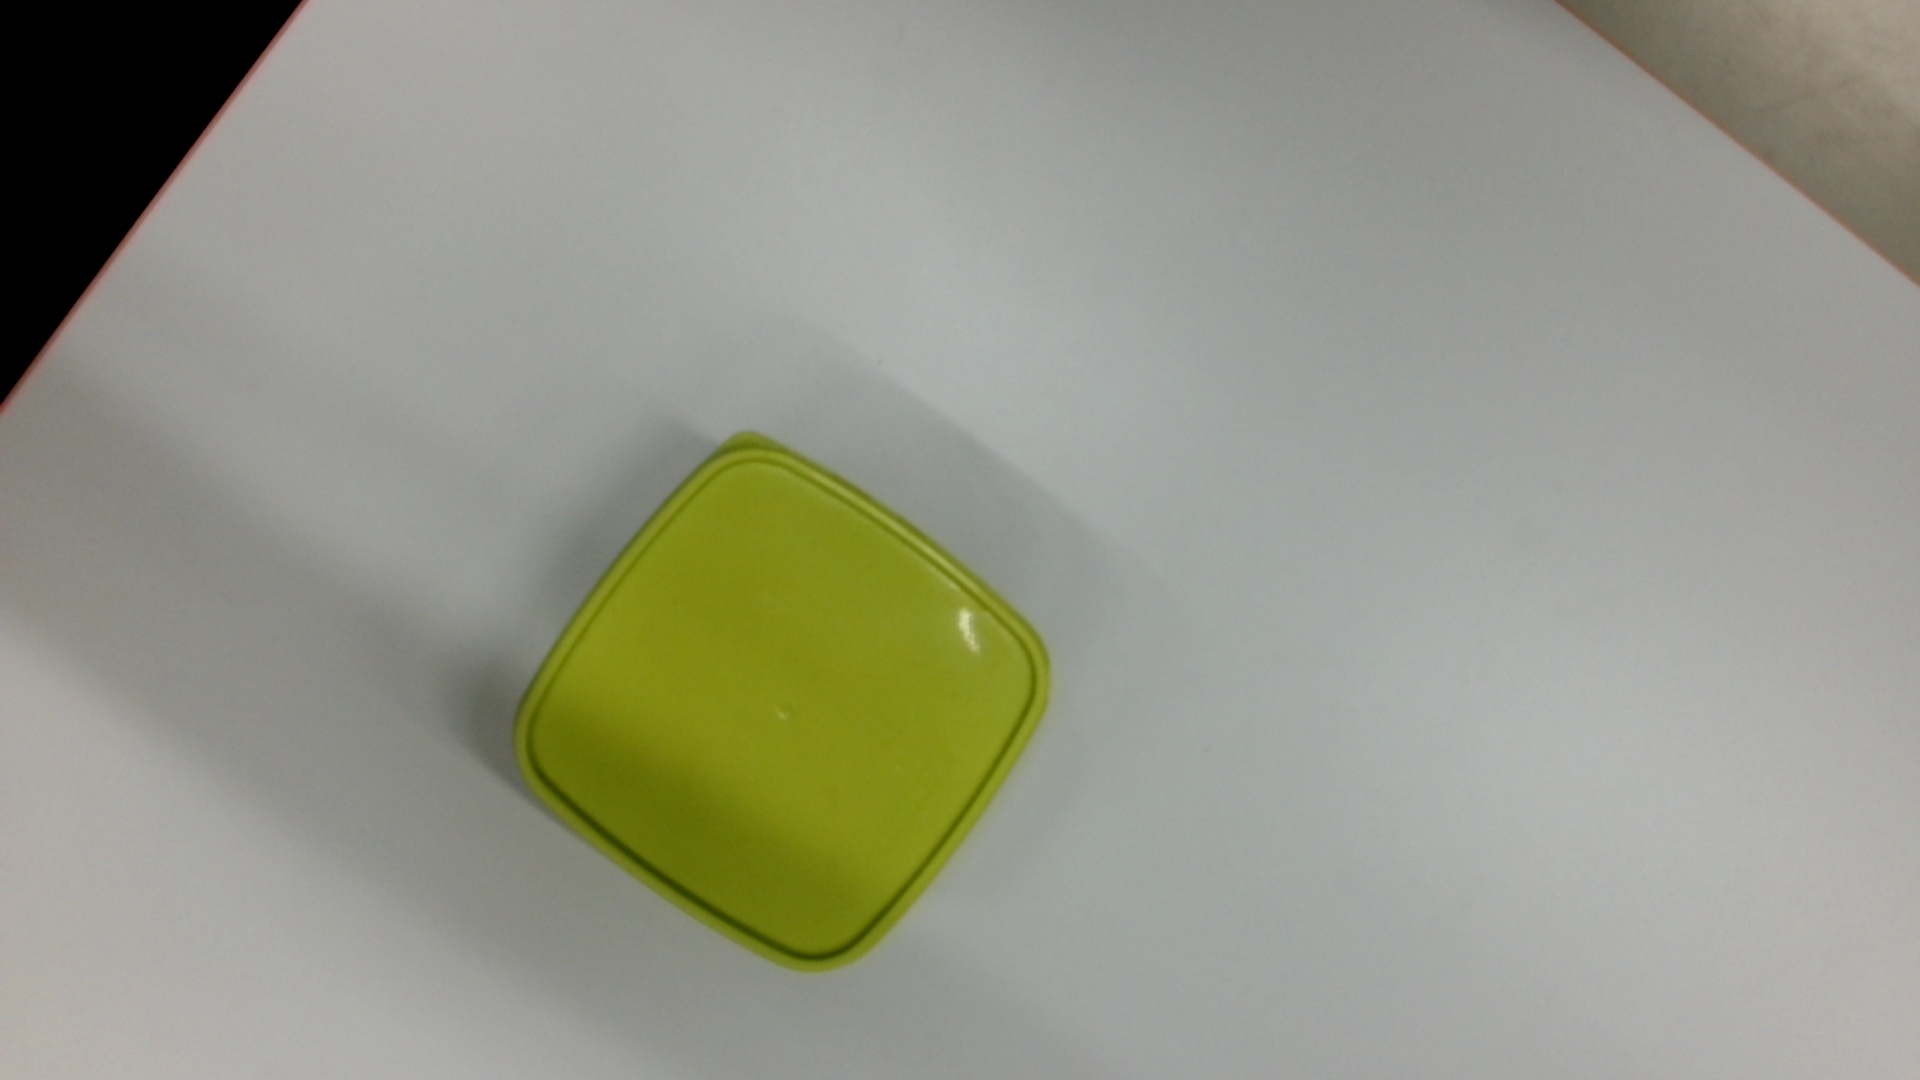Box: (504, 422, 1062, 989)
